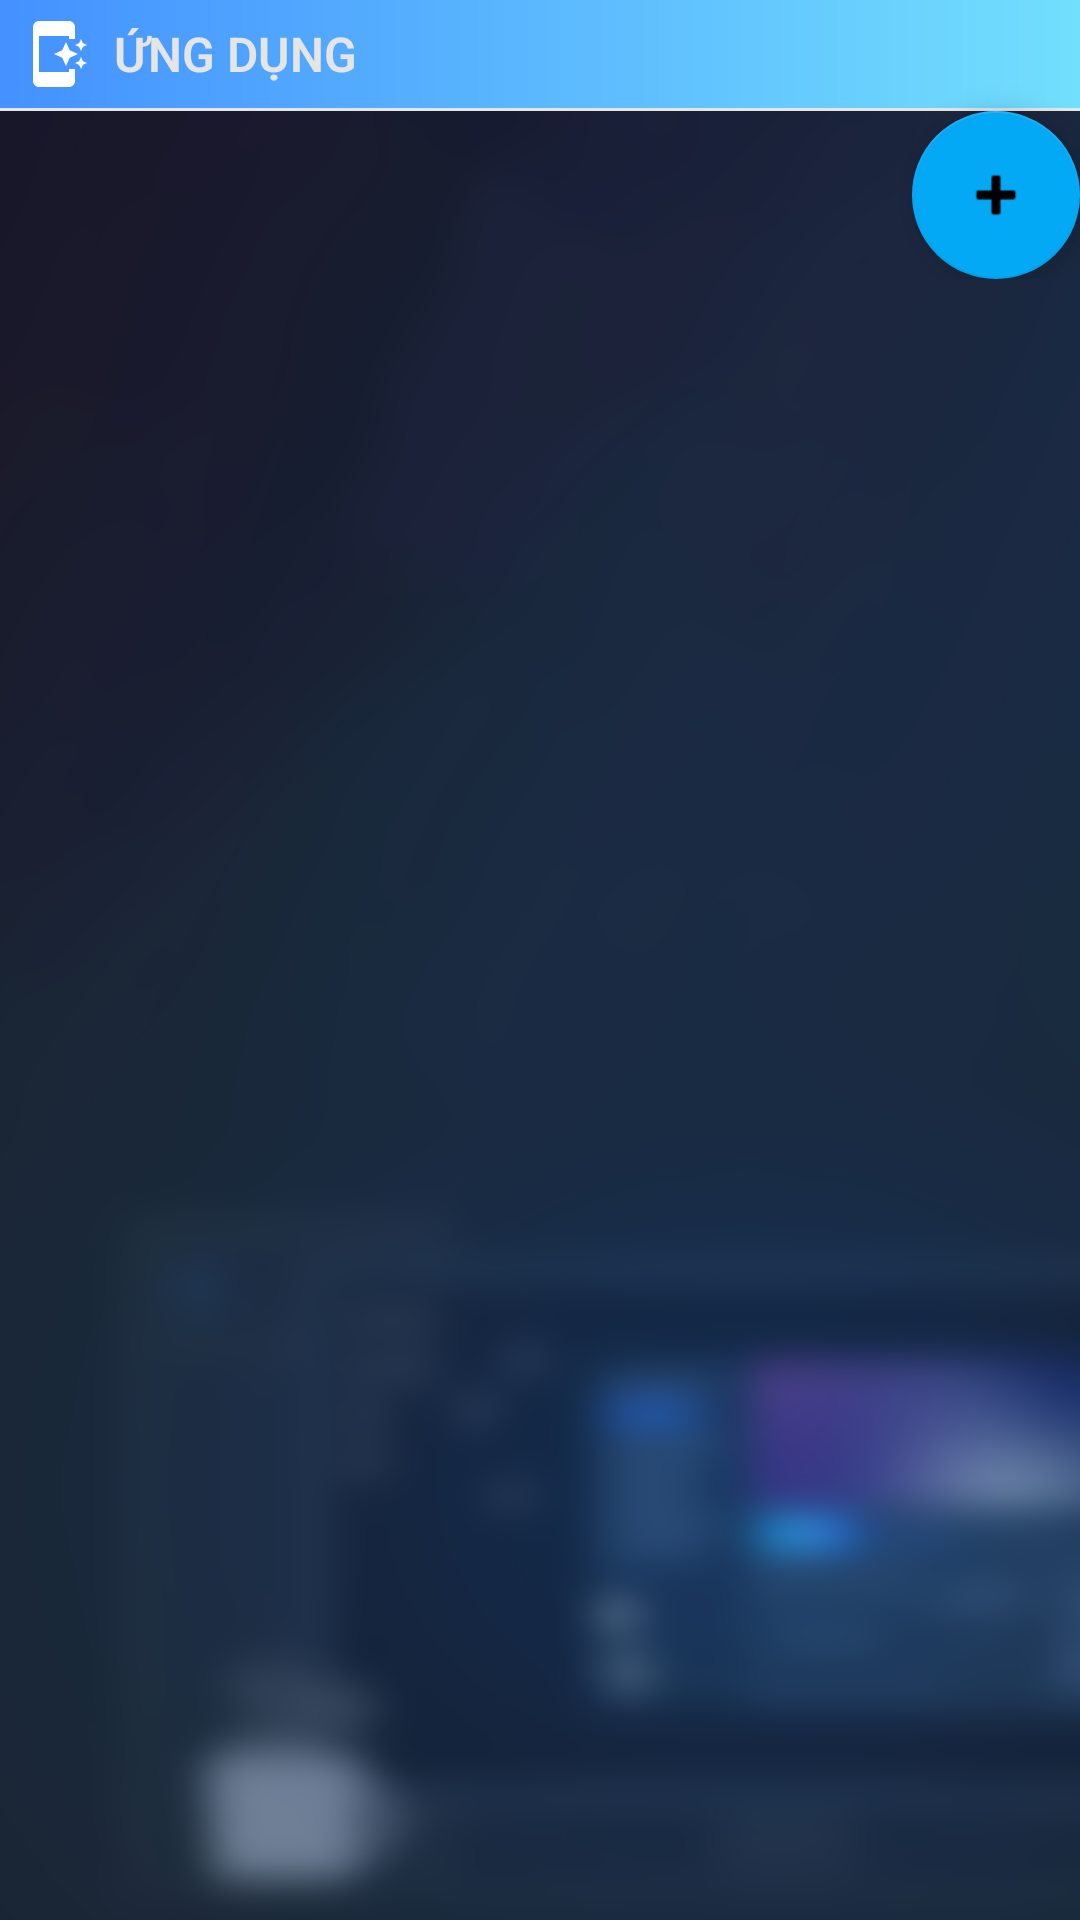

Where to tap for icons on this 1080px×1920px app screen, as point (x, y):
add: point (996, 195)
